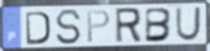B: (144, 7, 174, 44)
D: (24, 10, 52, 46)
P: (86, 9, 112, 44)
R: (114, 7, 143, 45)
S: (54, 8, 83, 46)
U: (175, 6, 203, 42)
